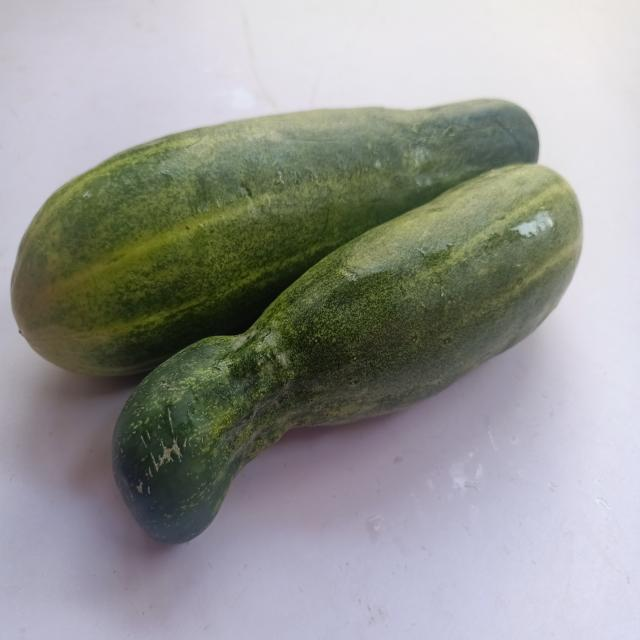Cucumber: (112, 164, 583, 543), (10, 98, 540, 376)
